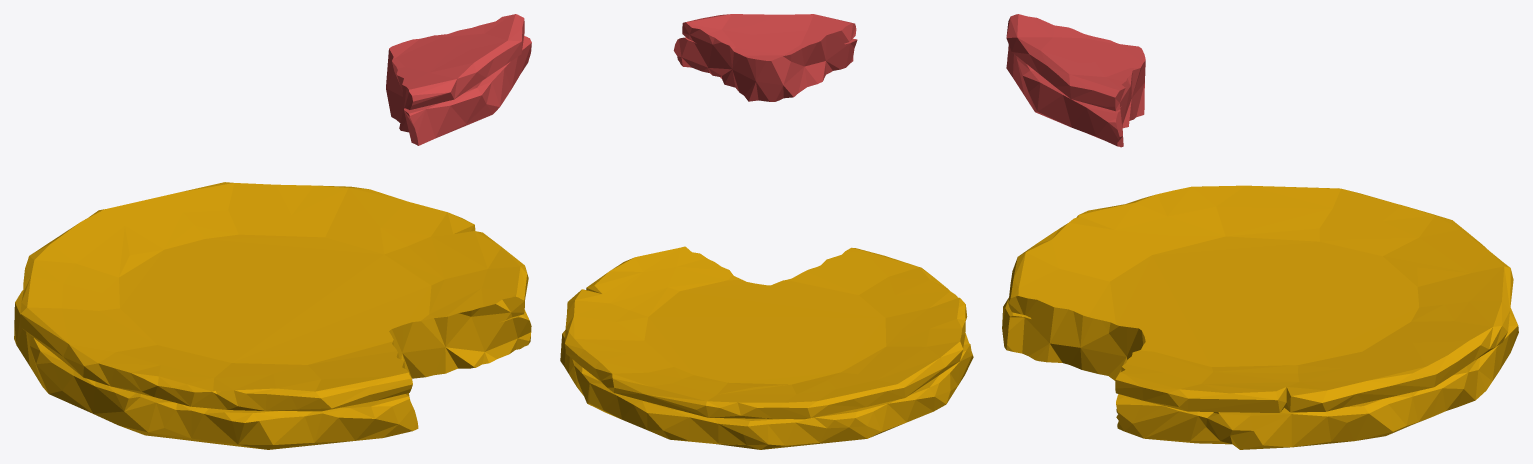
The model's file is fractured_41_2pcs_transformed.glb.
3 views of the same model, side by side, from view 1: azimuth 30°, elevation 25°; view 2: azimuth 150°, elevation 25°; view 3: azimuth 270°, elevation 25° (orthographic). The views are drawn at different scales.
Visible parts, largest first — view 1: piece_0.obj, piece_1.obj; view 2: piece_0.obj, piece_1.obj; view 3: piece_0.obj, piece_1.obj.
Part boxes in pixels (<box>): piece_0.obj: <box>14,182,531,449</box>; piece_1.obj: <box>386,14,531,145</box>; piece_0.obj: <box>560,246,973,449</box>; piece_1.obj: <box>673,14,857,101</box>; piece_0.obj: <box>1002,185,1518,449</box>; piece_1.obj: <box>1006,14,1145,147</box>.
Bounding box in the file's own units: 1 × 0.7467 × 0.9969.
